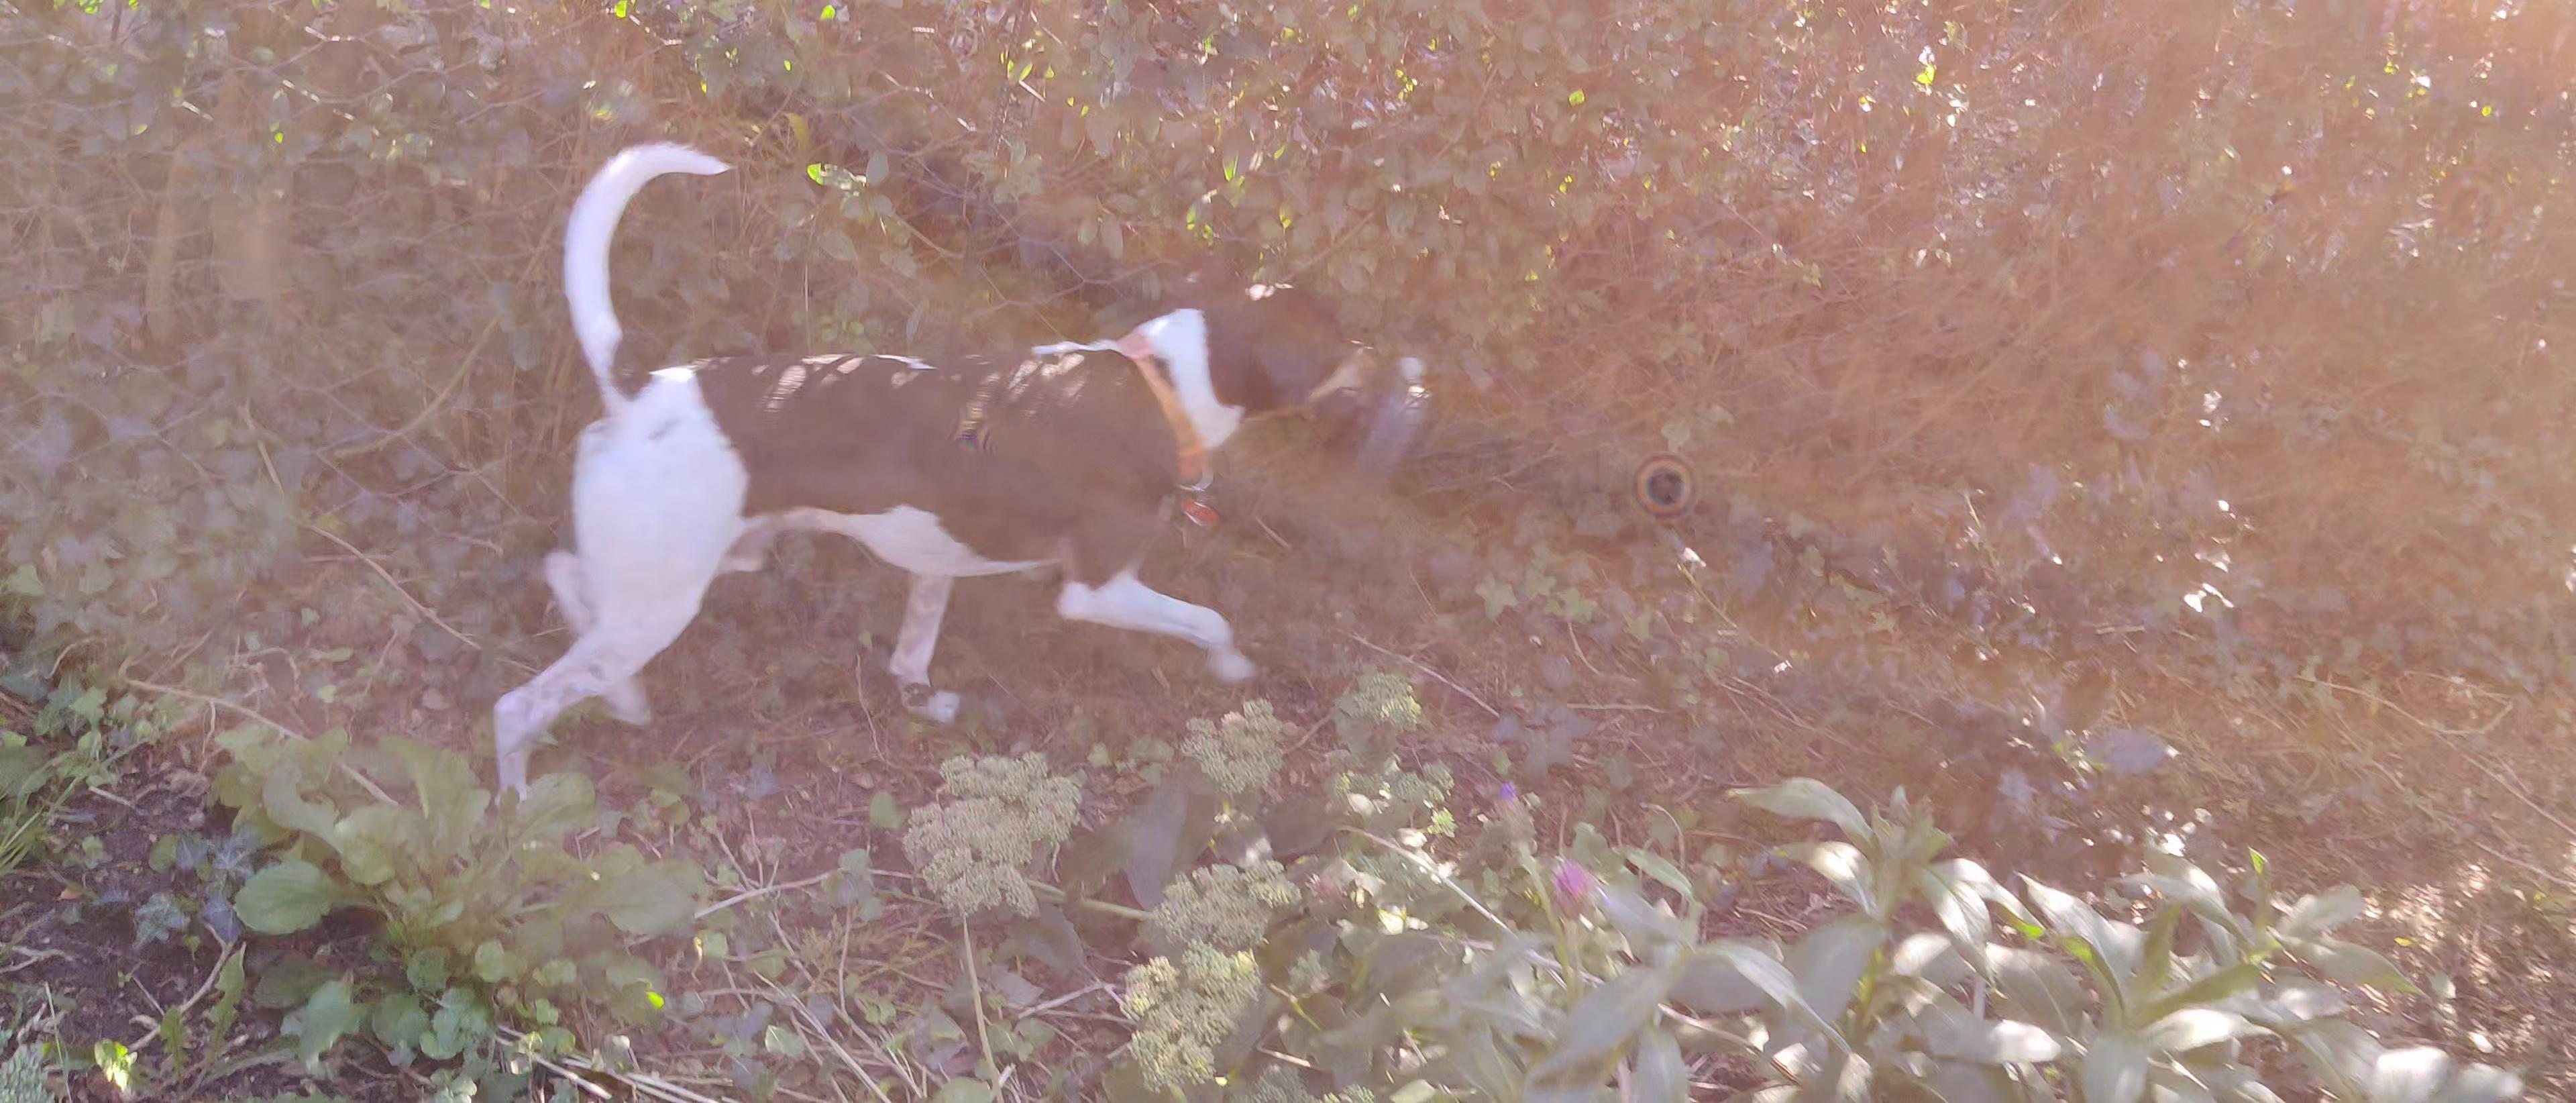Dog: (483, 135, 1385, 814)
